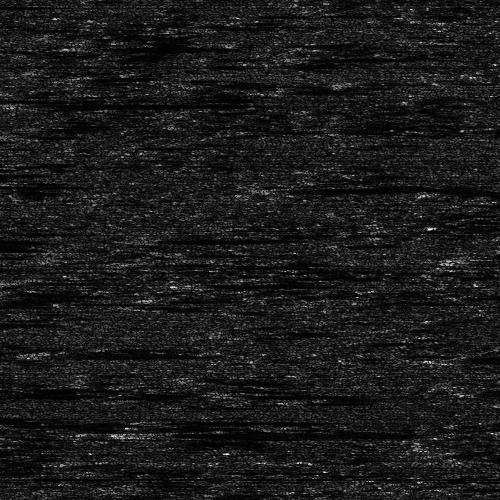rock: (233, 179, 326, 196), (249, 53, 354, 64), (0, 383, 45, 398), (406, 353, 479, 360), (9, 347, 62, 356), (297, 78, 350, 87), (59, 43, 122, 50), (177, 281, 230, 288), (129, 417, 182, 424), (118, 430, 181, 435), (118, 236, 171, 239)
shadow: (280, 179, 485, 196), (324, 78, 500, 87), (36, 347, 203, 356), (0, 383, 90, 398), (150, 430, 395, 435), (302, 53, 403, 64), (91, 43, 243, 50), (156, 417, 296, 424), (204, 281, 311, 288), (0, 161, 24, 186), (443, 353, 500, 360), (145, 236, 278, 239), (0, 443, 26, 454), (0, 2, 46, 7)
